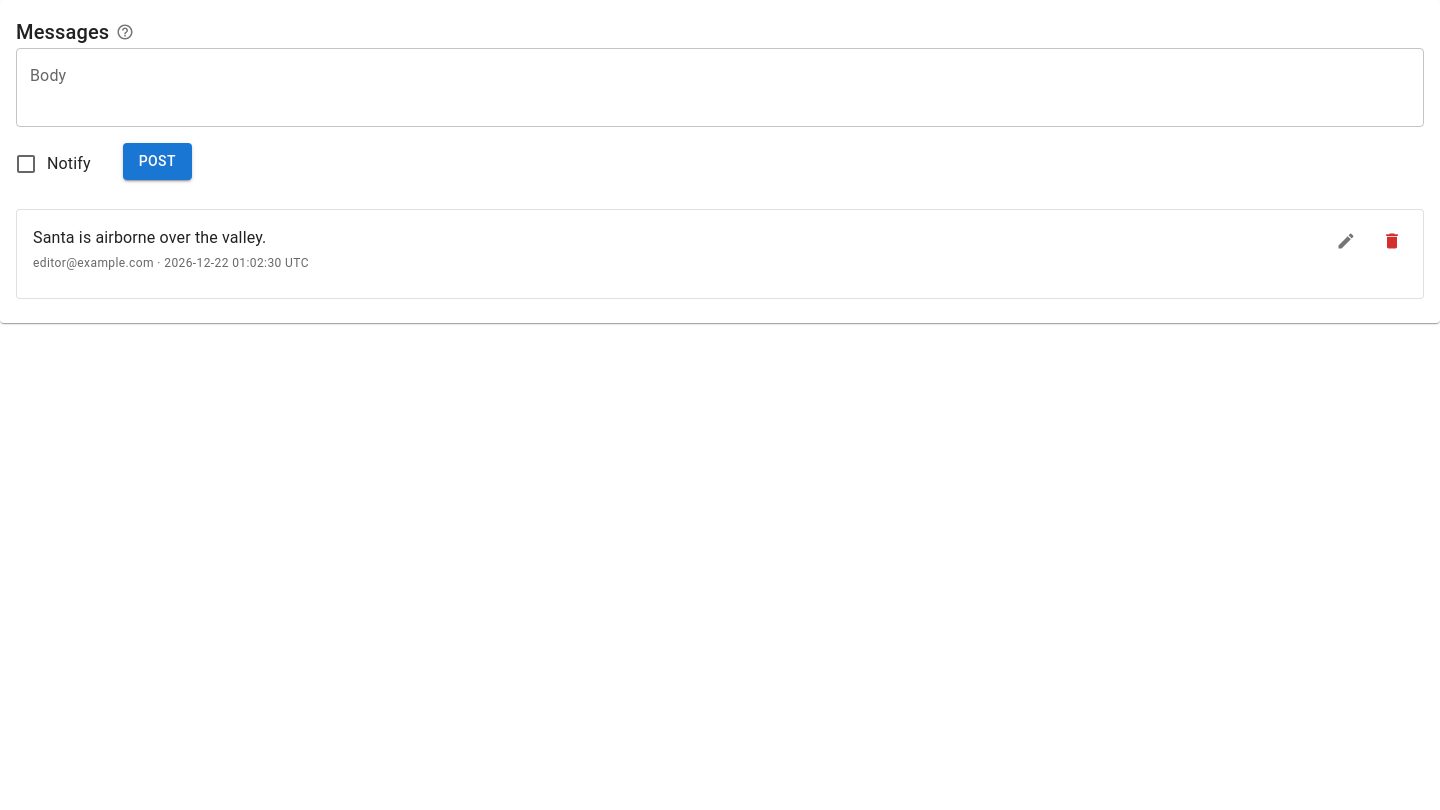
Test: MessagesSection (admin.md 6.3) › has no datetime input and posts { body, notify }
Expected: the text "Santa is airborne over the valley." is shown, [33,228,266,247]
Step 1. Type " Wheels up. " into the text box labelled "Body" → coordinates (720, 88), box [30,64,1410,110]
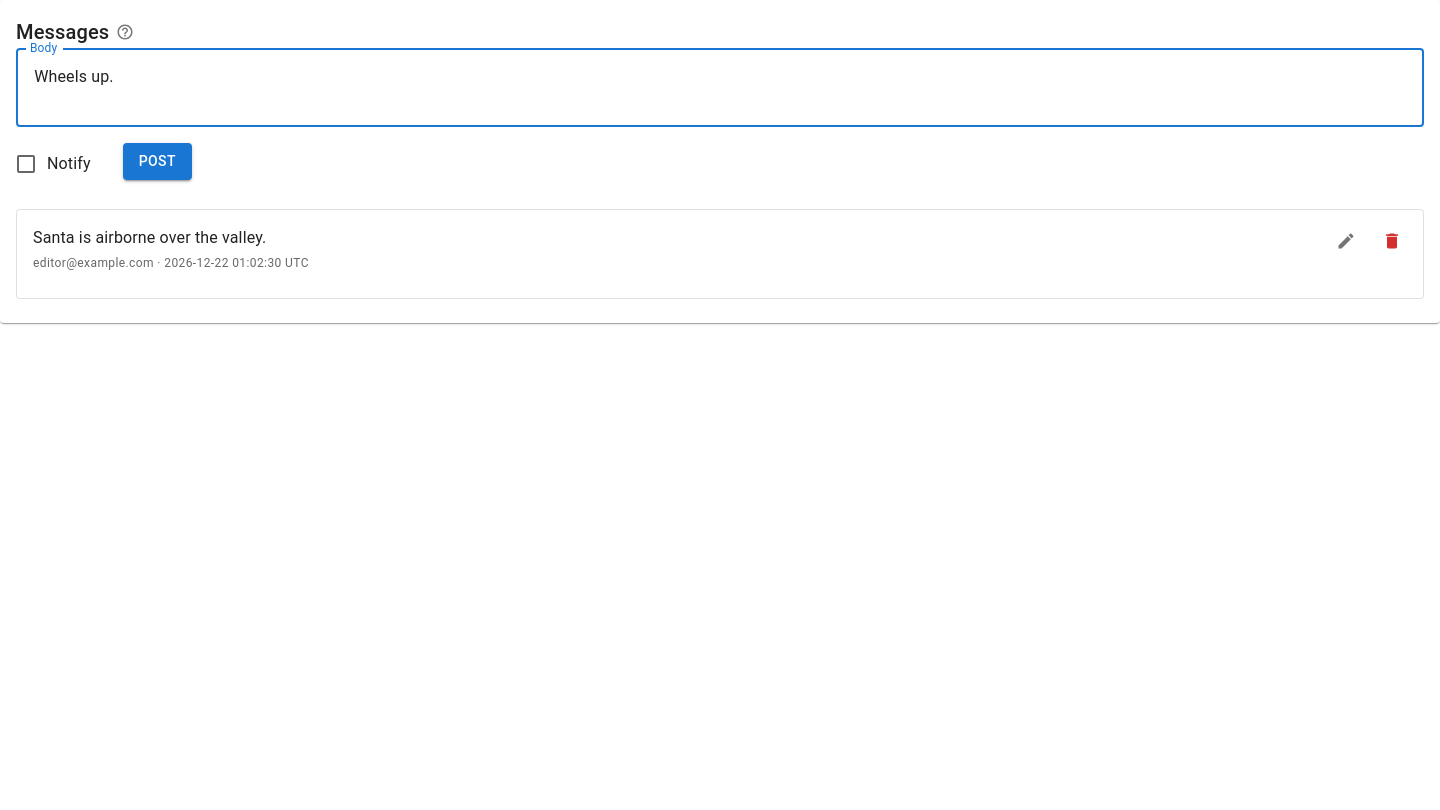
Step 2. Click the button "Post" → coordinates (157, 161), box [123,143,192,180]
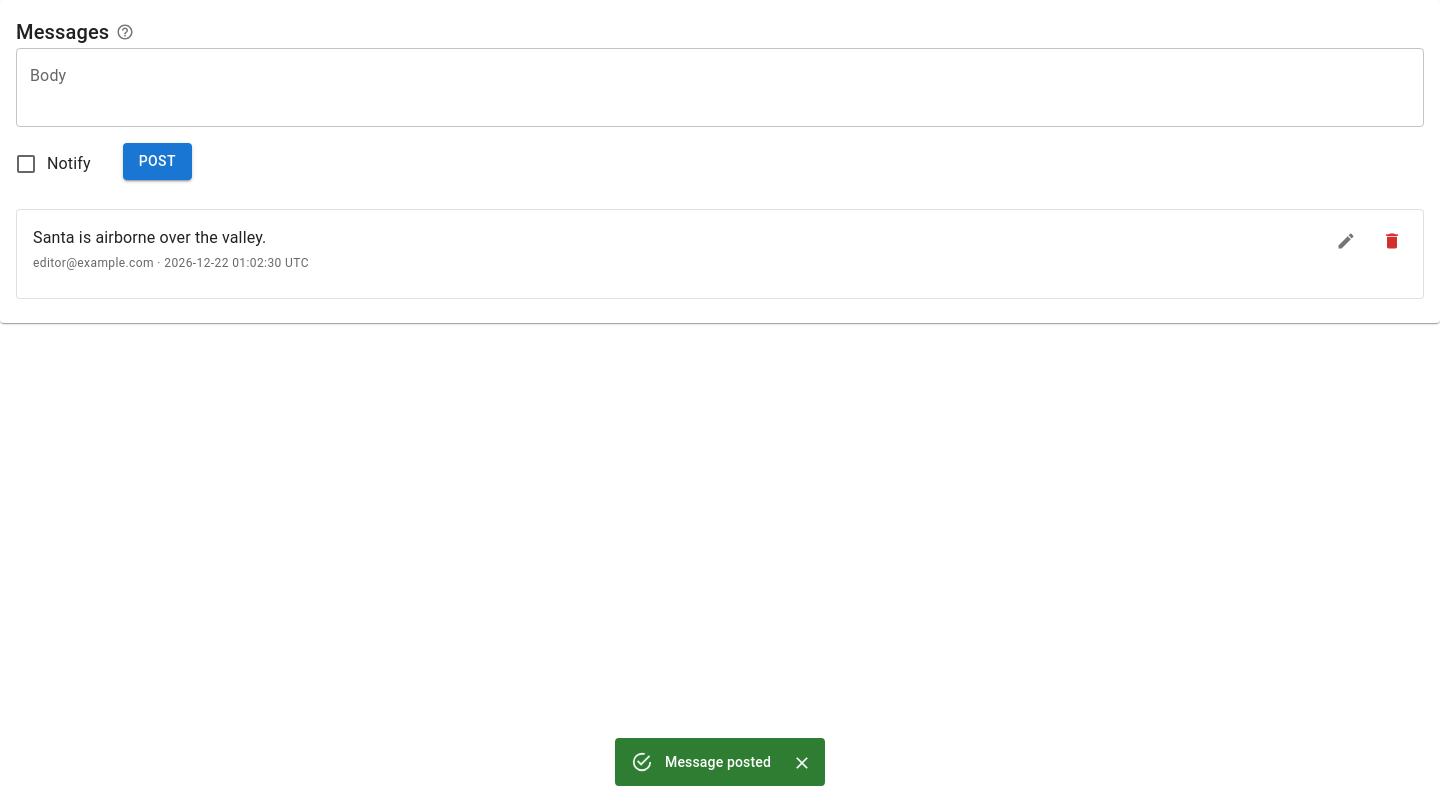
Expected: the text "Message posted" is shown, [665,754,771,770]
